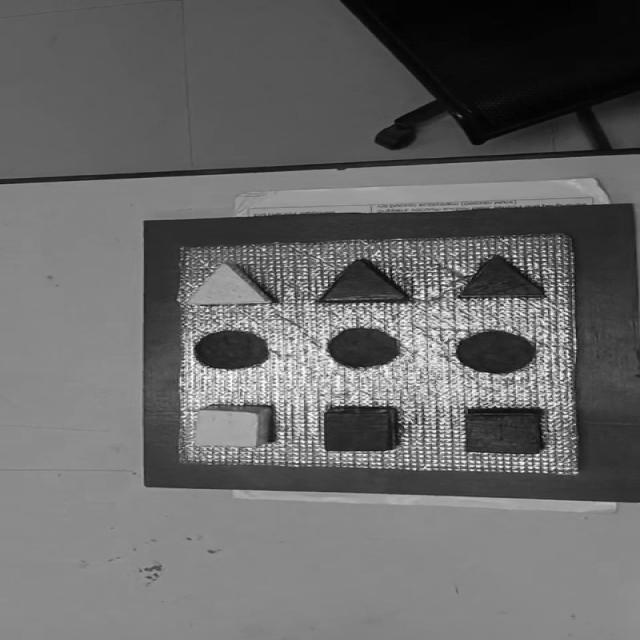bcube: (463, 409, 545, 455)
btriangle: (457, 255, 546, 300)
mtcircle: (453, 329, 538, 374), (326, 327, 401, 367), (194, 329, 268, 368)
rcube: (322, 406, 400, 453)
rtriangle: (317, 258, 409, 304)
wb: (174, 233, 583, 474)
ycube: (192, 405, 267, 448)
ytriangle: (183, 261, 274, 307)
